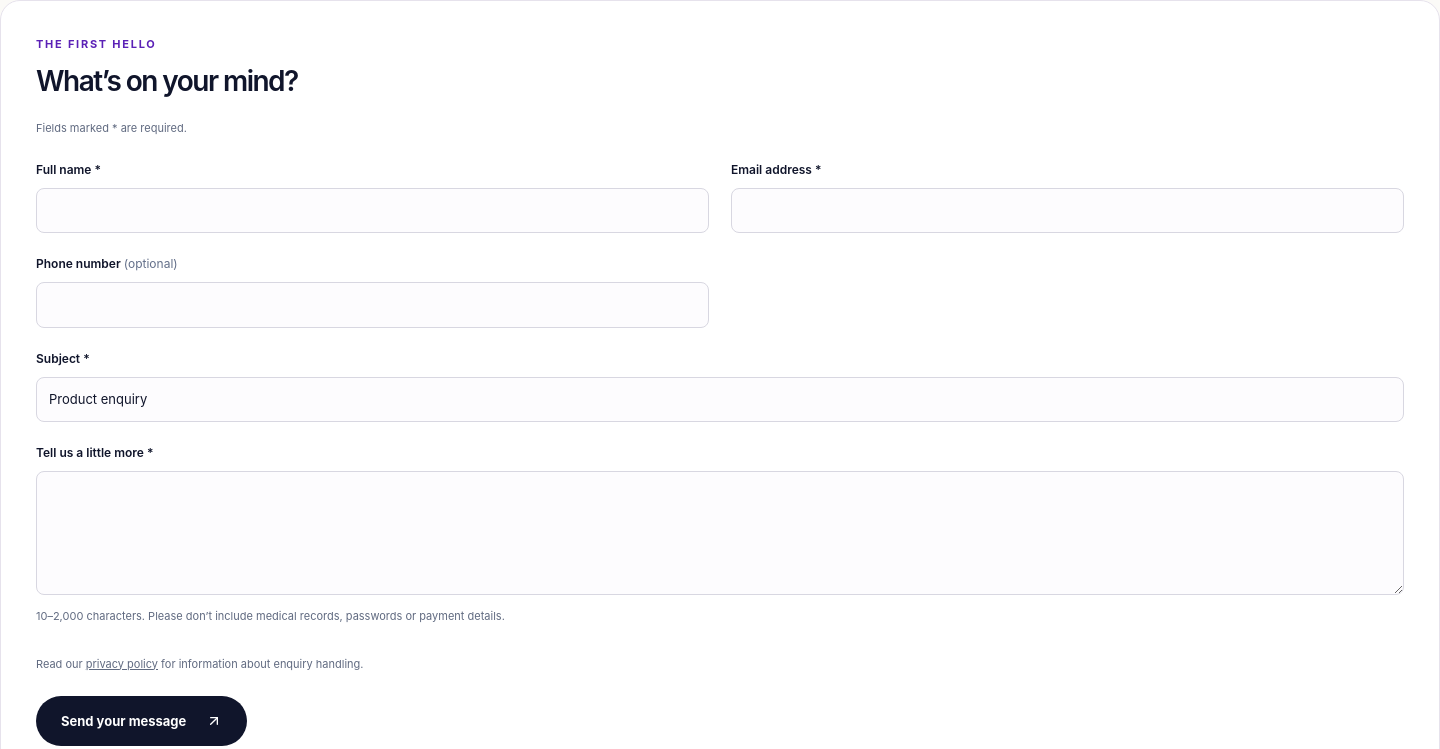
Test: preserves the message on a delivery failure
This screenshot has width=1440, height=749.
Type "Test Person" into the field labelled "Full name *".
click(372, 211); type("Test Person")  # box [36,188,709,233]
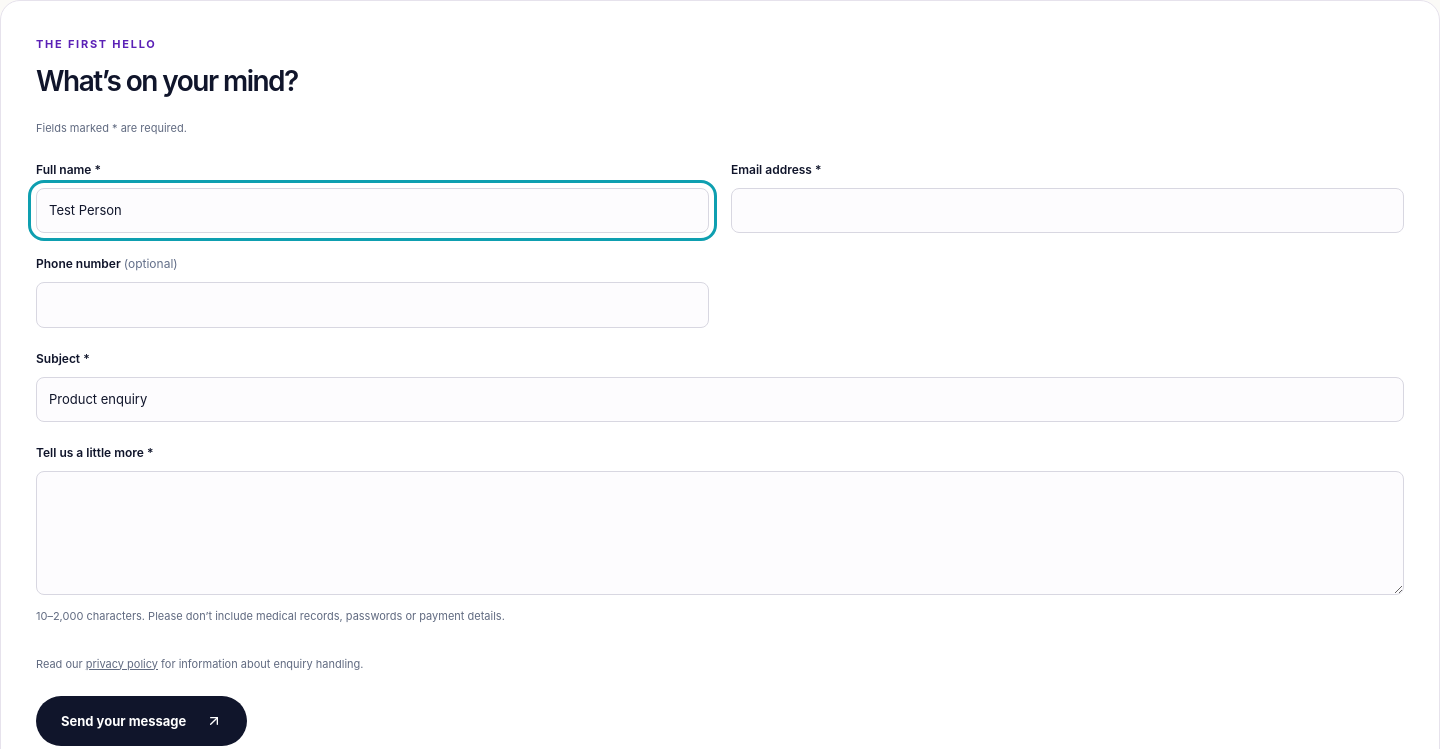
Type "person@example.com" into the field labelled "Email address *".
click(1068, 211); type("person@example.com")  # box [731,188,1404,233]
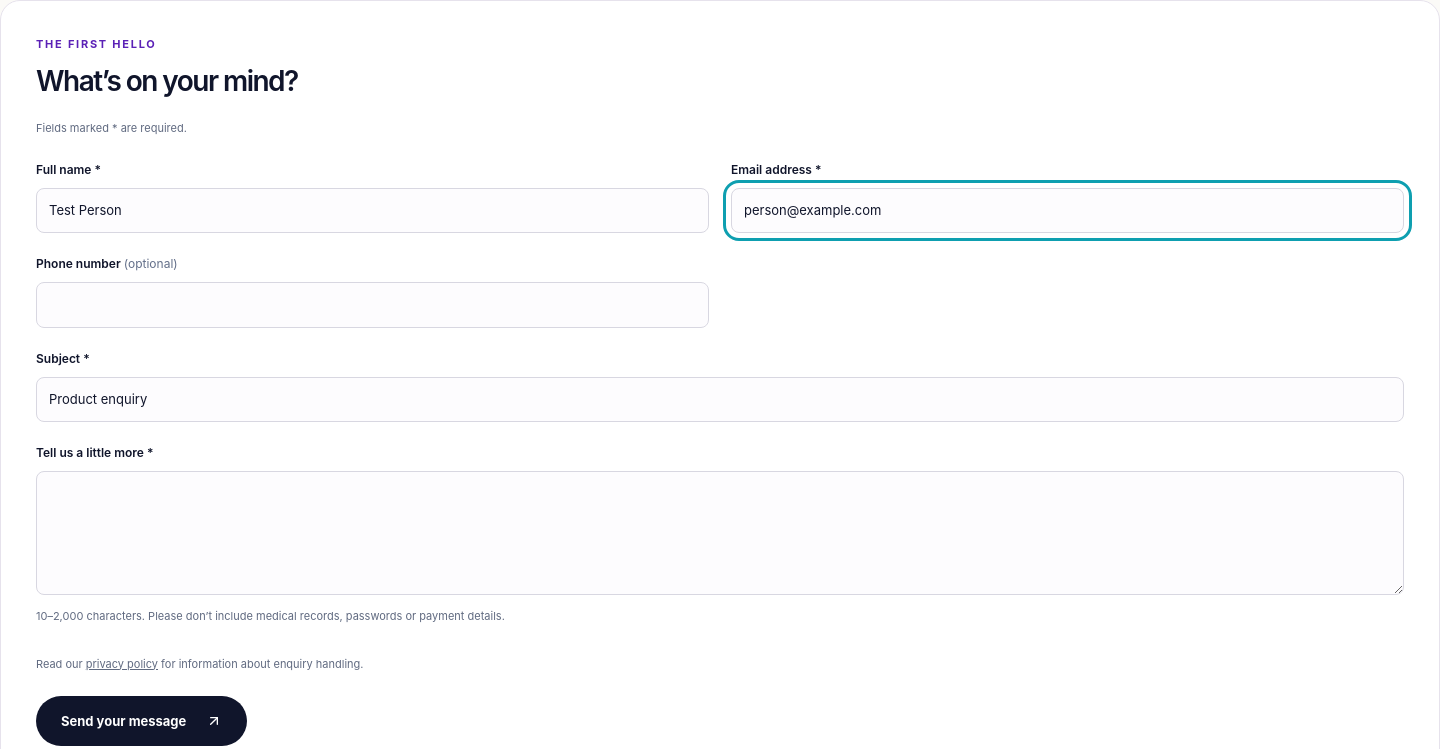
Type "Please tell me about your platform." into the text box labelled "Tell us a little more *".
click(720, 533); type("Please tell me about your platform.")  # box [36,471,1404,595]
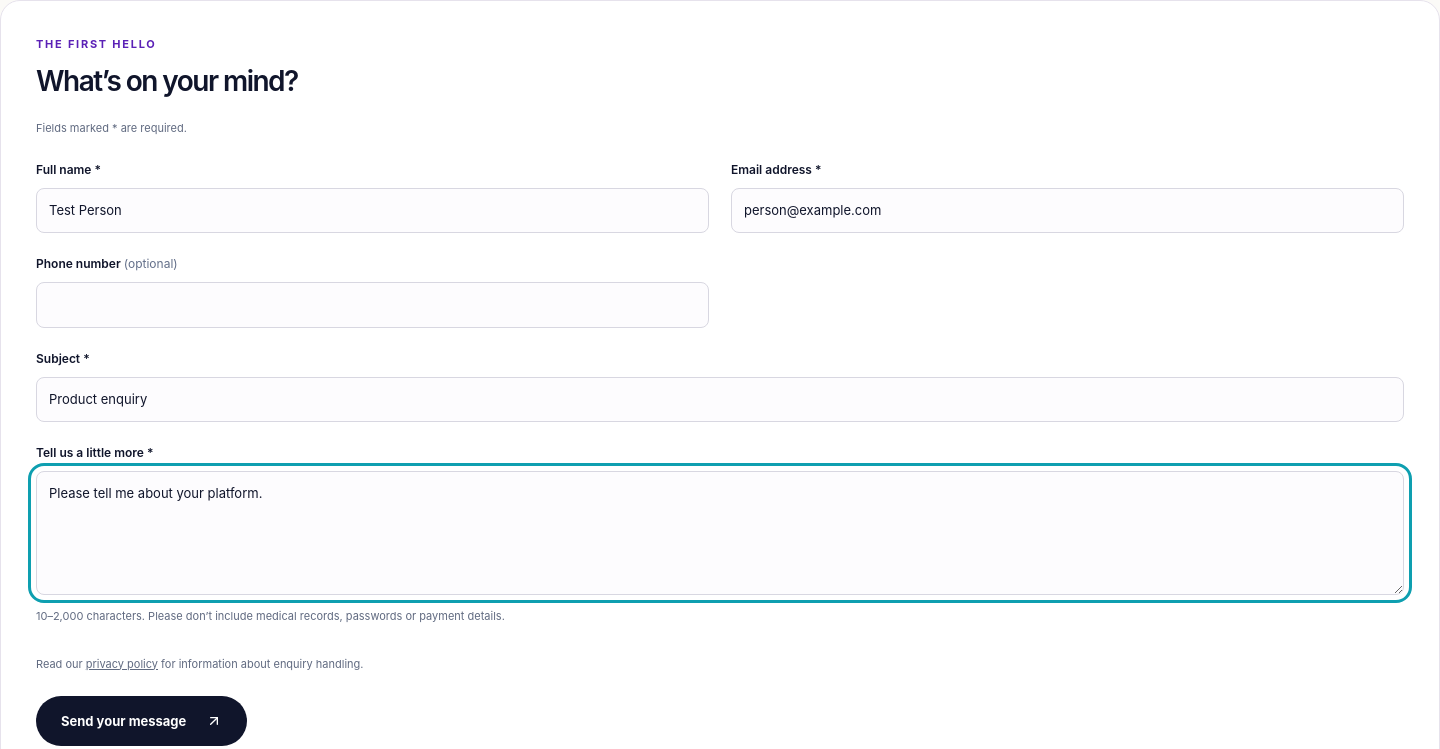
Click the button "Send your message".
click(142, 721)  # box [36,696,247,746]
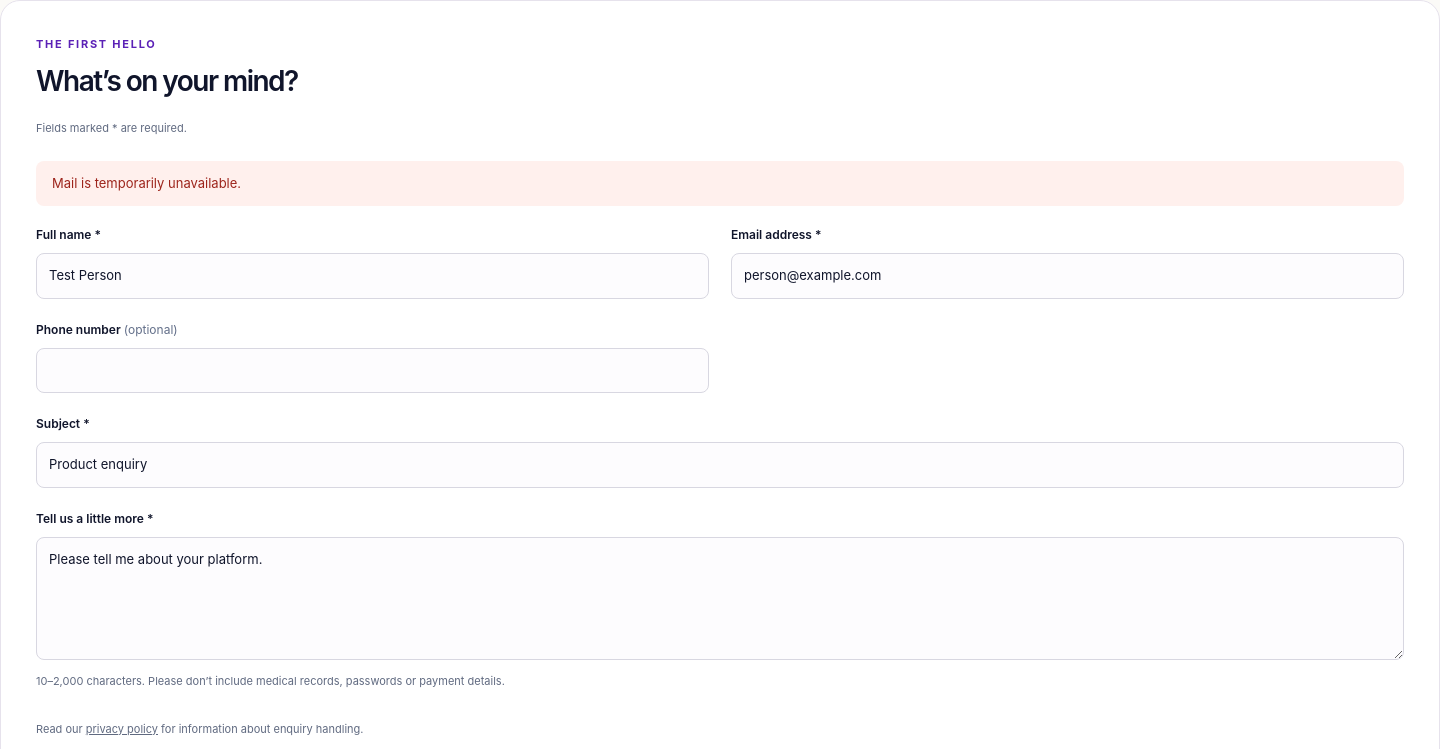
Expected: the text "Mail is temporarily unavailable." is shown, [36,161,1404,206]
